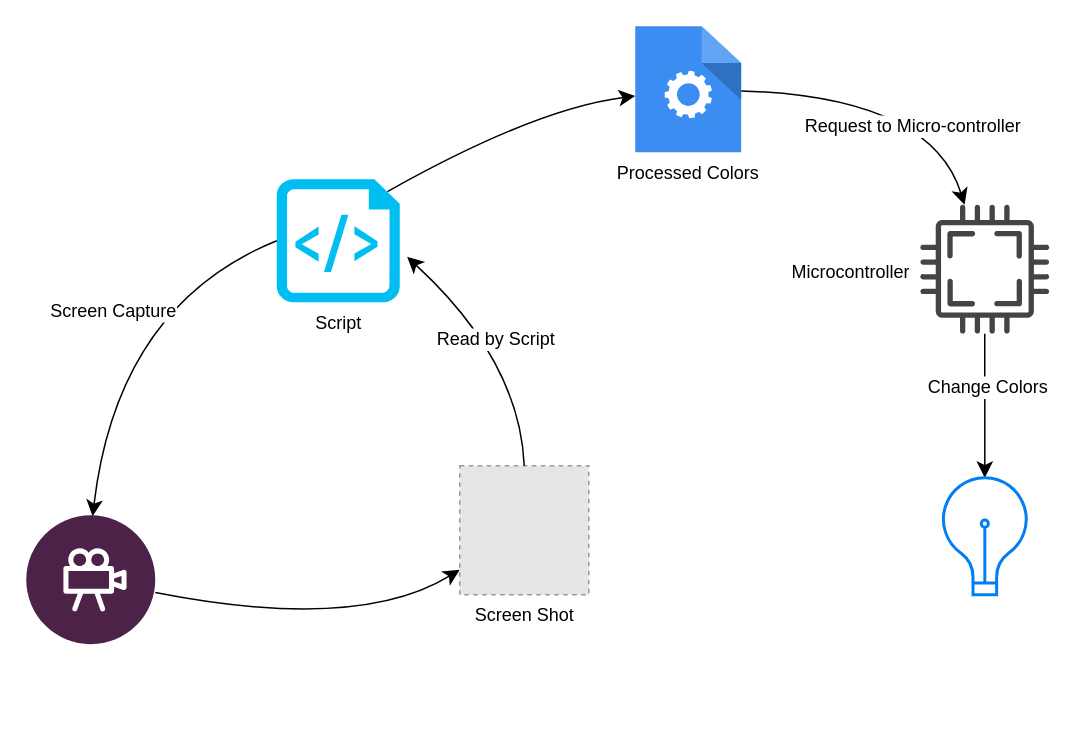
Some shapes in this 1076 by 744 pixel diagram are drawn without their labels. Grey dashed boxes stand in for pictures. Here are the shapes that lost their labels. From the top down, the centre of each, then its label:
At point (984, 536): "LED Strip".
At point (90, 579): "Media Player".
